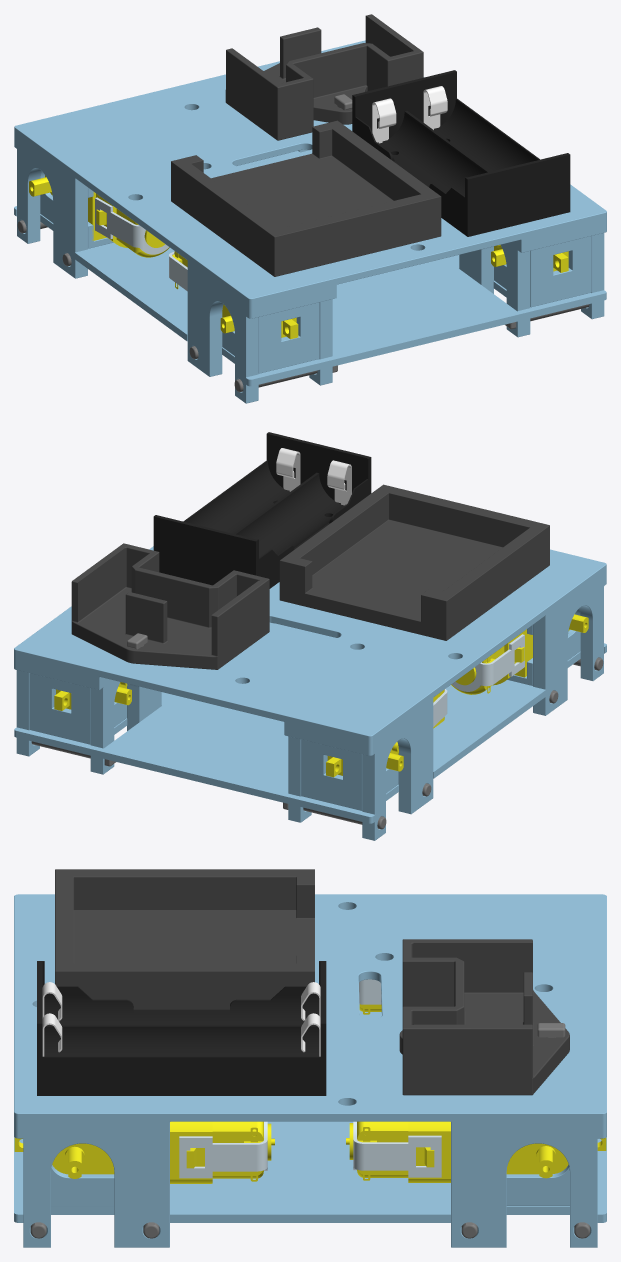
The model's file is Base_Assembly.dae.
3 views of the same model, one above another, from view 1: azimuth 30°, elevation 25°; view 2: azimuth 150°, elevation 25°; view 3: azimuth 270°, elevation 25° (orthographic). The views are drawn at different scales.
Parts seen in each view (by area): view 1: Bottom_Base_Plate (×2), H-Bridge_Holder, Hold_18650-4, Buck_Concervter_Holder, Motor_Brace (×3), Part 1 (×3), Hold_18650_Con (×2), Part 8; view 2: Bottom_Base_Plate (×2), H-Bridge_Holder, Buck_Concervter_Holder, Hold_18650-4, Motor_Brace (×3), Part 1 (×3), Hold_18650_Con (×2), Part 8; view 3: Bottom_Base_Plate (×2), H-Bridge_Holder, Hold_18650-4, Buck_Concervter_Holder, Part 1 (×2), Part 8 (×3), Motor_Brace (×2).
Boxes of the visible parts, box(x1,y1,x2,y2) form: Bottom_Base_Plate (×2): box(14, 40, 606, 403); H-Bridge_Holder: box(171, 120, 441, 276); Hold_18650-4: box(352, 70, 570, 236); Buck_Concervter_Holder: box(225, 14, 423, 140); Motor_Brace (×3): box(40, 171, 591, 373); Part 1 (×3): box(29, 175, 568, 339); Hold_18650_Con (×2): box(372, 86, 447, 143); Part 8: box(95, 197, 168, 254); Bottom_Base_Plate (×2): box(14, 546, 606, 840); H-Bridge_Holder: box(279, 484, 549, 640); Buck_Concervter_Holder: box(71, 543, 269, 669); Hold_18650-4: box(153, 432, 371, 588); Motor_Brace (×3): box(29, 609, 580, 810); Part 1 (×3): box(54, 614, 588, 777); Hold_18650_Con (×2): box(276, 448, 351, 505); Part 8: box(451, 634, 524, 691); Bottom_Base_Plate (×2): box(14, 894, 606, 1247); H-Bridge_Holder: box(55, 869, 314, 1009); Hold_18650-4: box(37, 961, 326, 1095); Buck_Concervter_Holder: box(399, 939, 569, 1095); Part 1 (×2): box(14, 1121, 606, 1183); Part 8 (×3): box(179, 979, 441, 1178); Motor_Brace (×2): box(51, 1165, 569, 1206).
Size of the model in its own units: 0.1436 by 0.16 by 0.0615.
